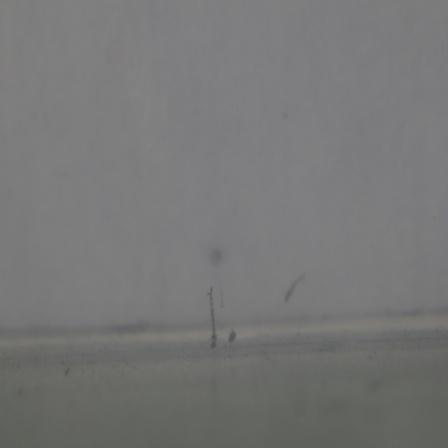Jentik-Nyamuk: (203, 281, 222, 353)
